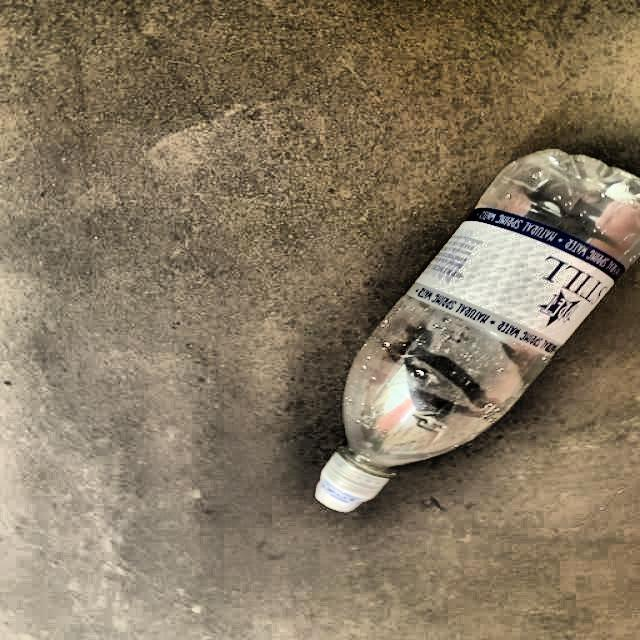plastic bottle: (316, 150, 640, 512)
